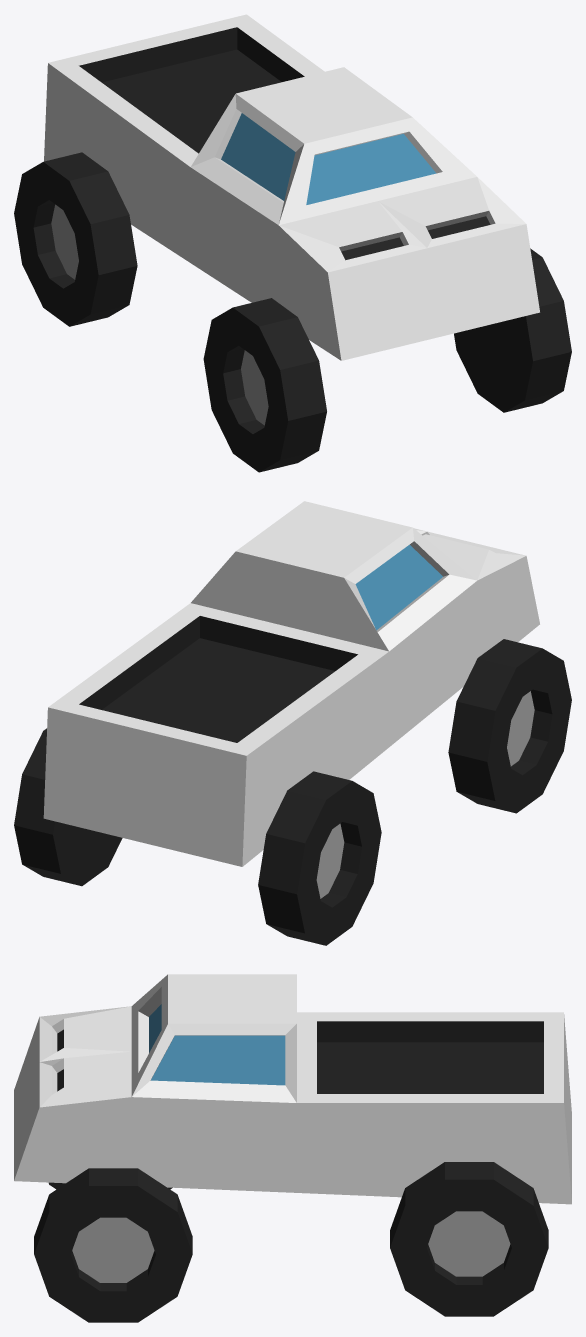
Rendered from low-poly-monster-truck.glb.
3 renders of one model, top to bottom at view 1: azimuth 30°, elevation 25°; view 2: azimuth 150°, elevation 25°; view 3: azimuth 270°, elevation 25°, orthographic. The views are drawn at different scales.
Parts seen in each view (by area): view 1: chassis, back-right-tire, front-right-tire, front-left-tire; view 2: chassis, front-right-tire, back-right-tire, back-left-tire; view 3: chassis, front-left-tire, back-left-tire.
Boxes of the visible parts, x1,y1,x2,y2 form: chassis: (44, 14, 539, 360); back-right-tire: (14, 152, 137, 326); front-right-tire: (203, 298, 326, 472); front-left-tire: (454, 248, 571, 412); chassis: (43, 501, 539, 866); front-right-tire: (448, 639, 571, 813); back-right-tire: (258, 771, 381, 945); back-left-tire: (14, 728, 122, 886); chassis: (14, 974, 571, 1204); front-left-tire: (34, 1168, 192, 1322); back-left-tire: (390, 1162, 548, 1316).
Bounding box in the file's own units: 3.06 × 2.85 × 5.57.
1 material, 1 textured.
